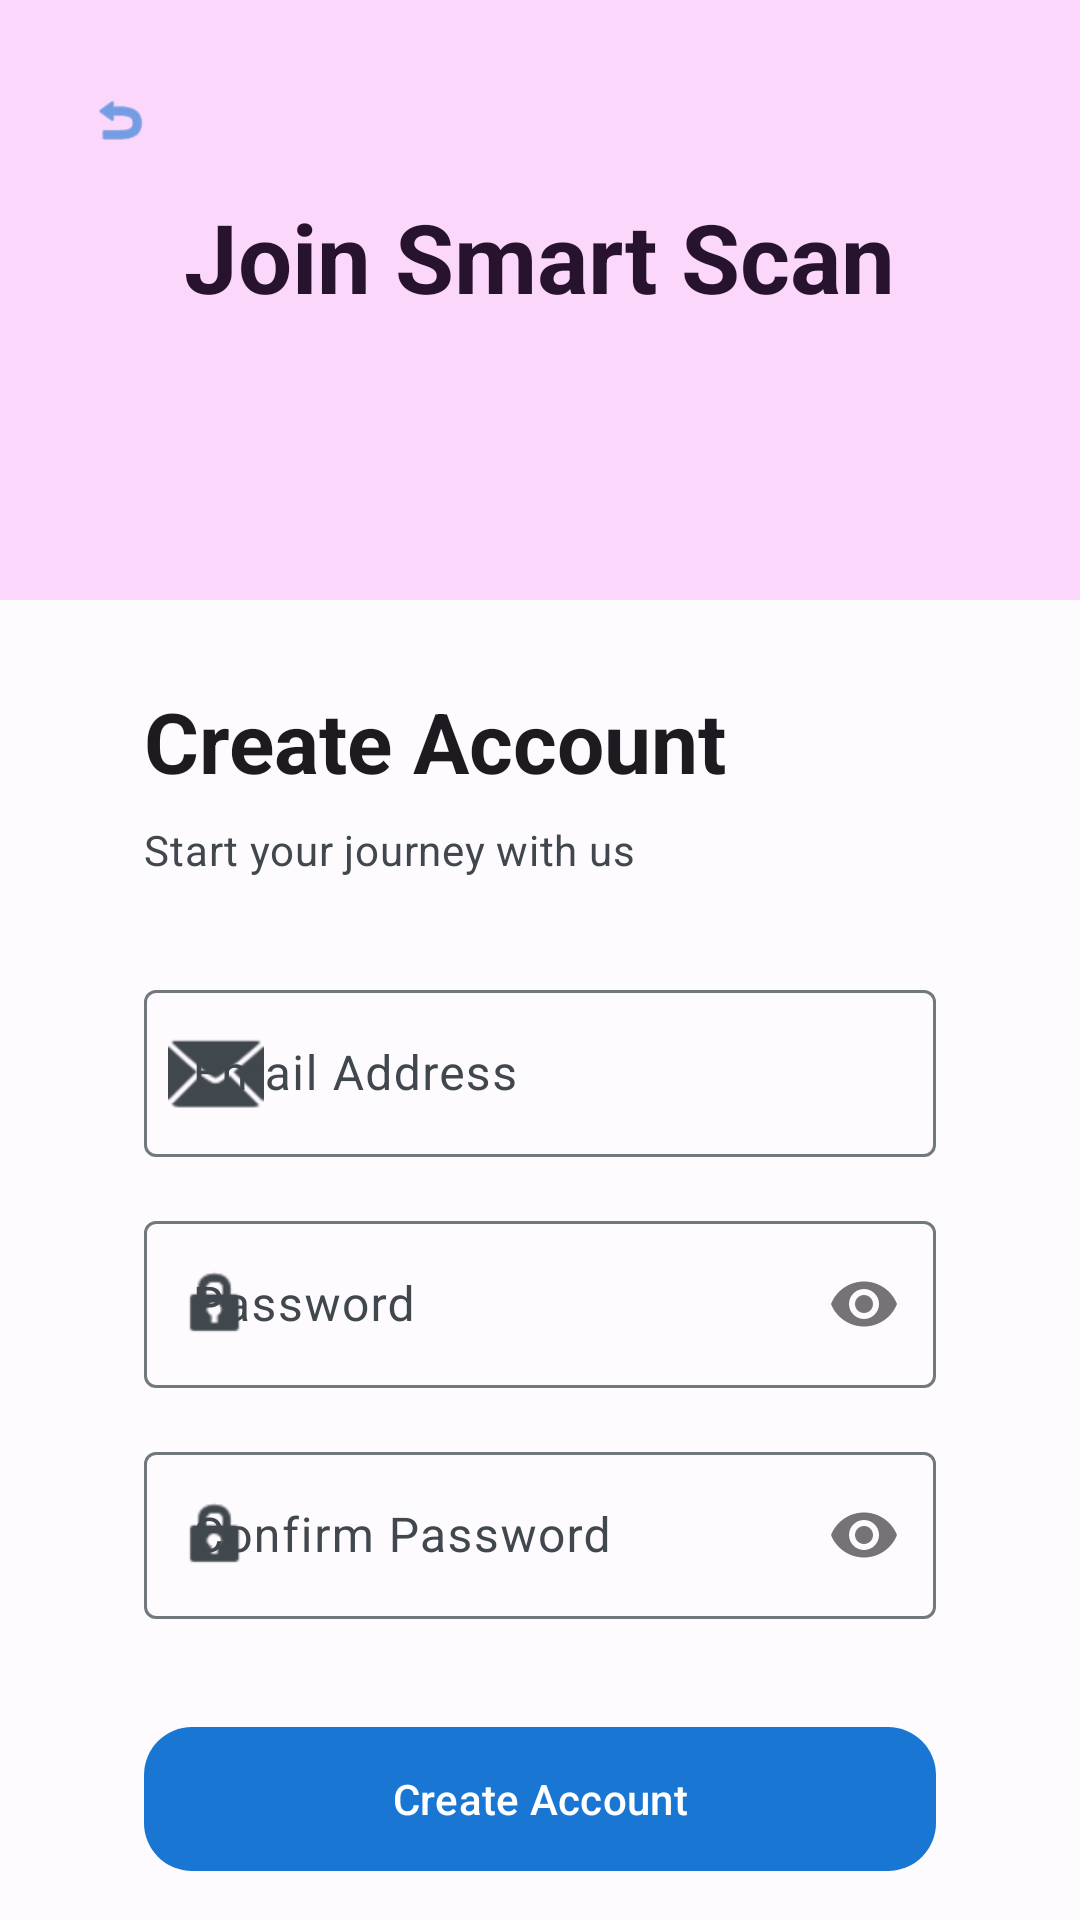

Named icons in this screenshot (1080px×1920px) and their bounding boxes, (x1=x1, y1=y1, x2=x2, y2=y2):
revert: (x1=99, y1=101, x2=142, y2=140)
